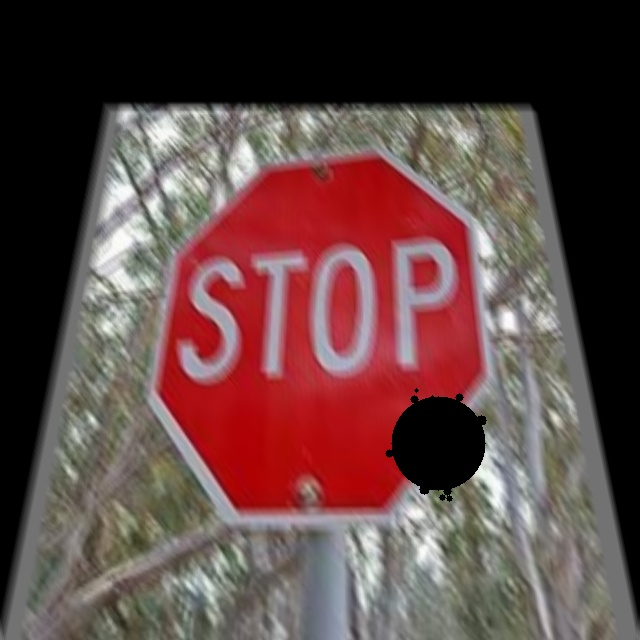Stop: (135, 149, 515, 525)
